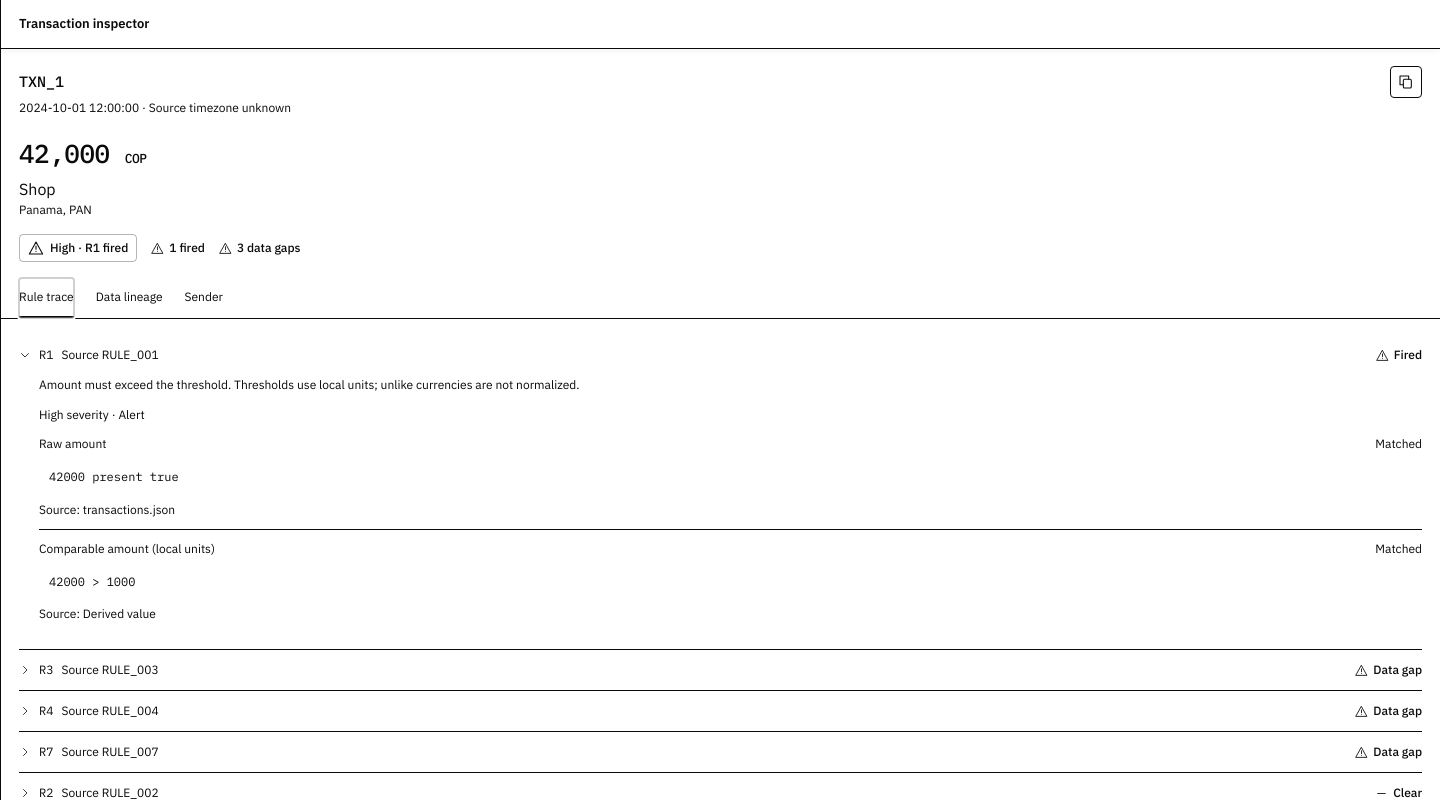
forensic inspector › uses accessible tabs and copies the selected transaction ID with honest feedback
Press Arrowright
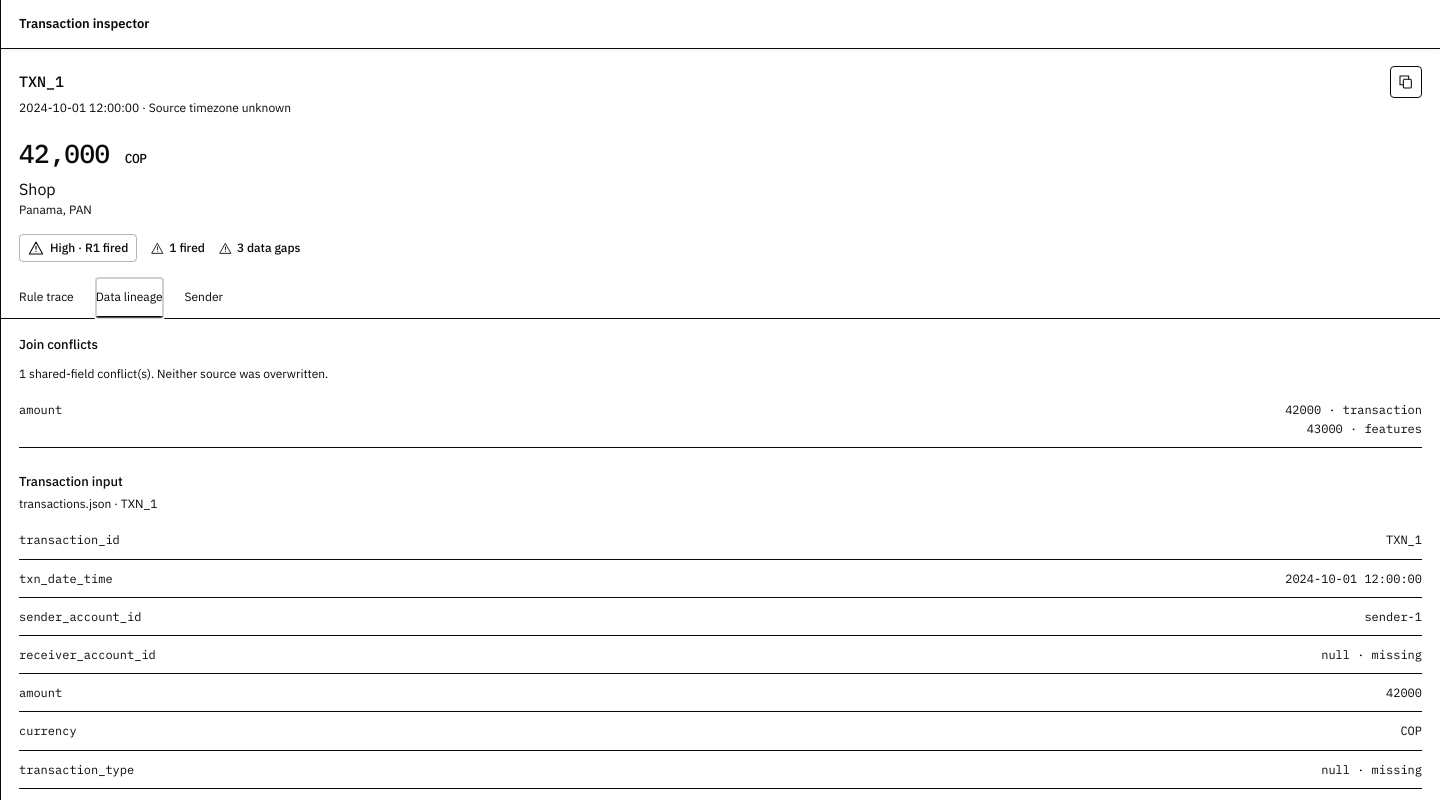
Click the button named "Copy transaction ID": click(1406, 82) [1390, 66, 1422, 98]
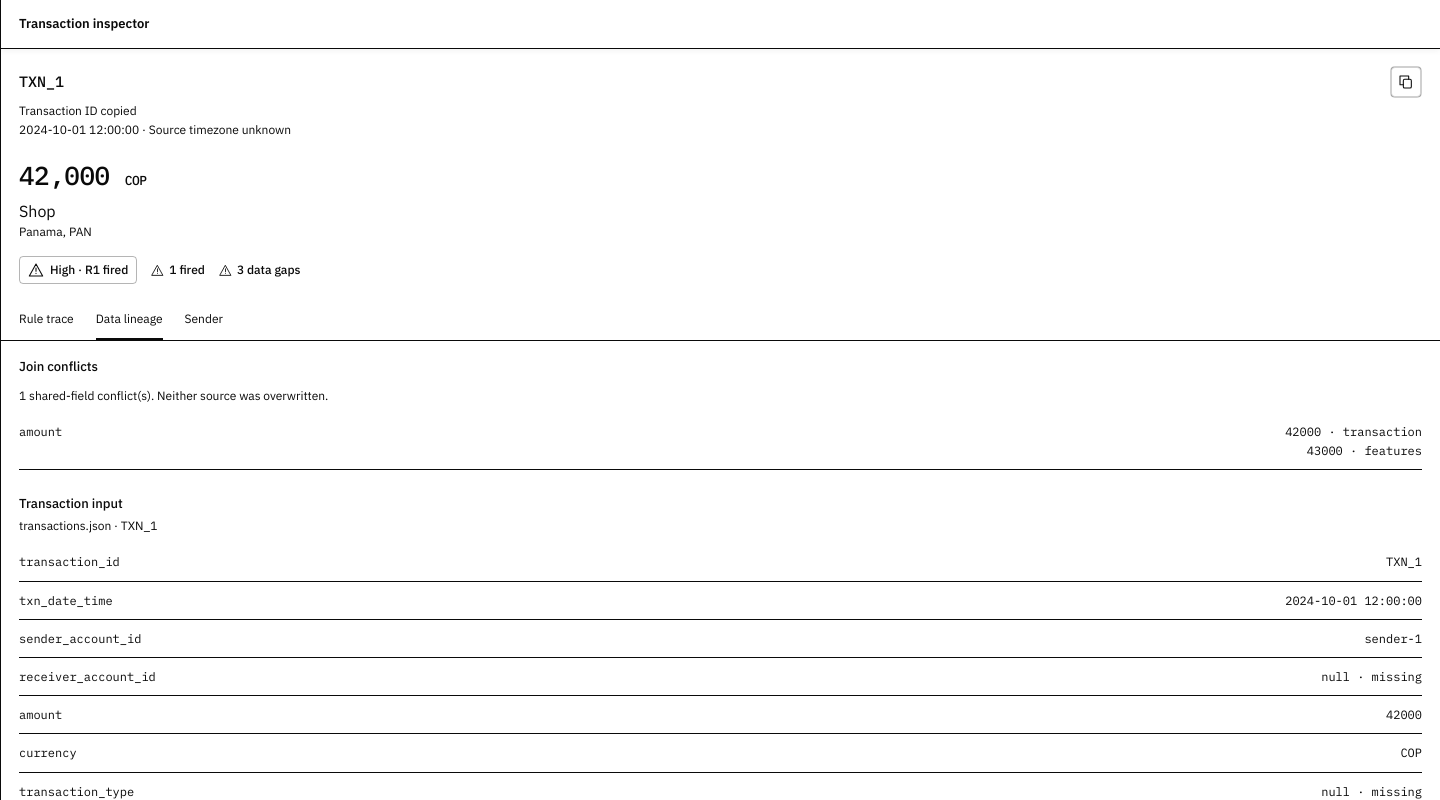
Check: the message reads "Transaction ID copied", box [19, 103, 137, 118]
